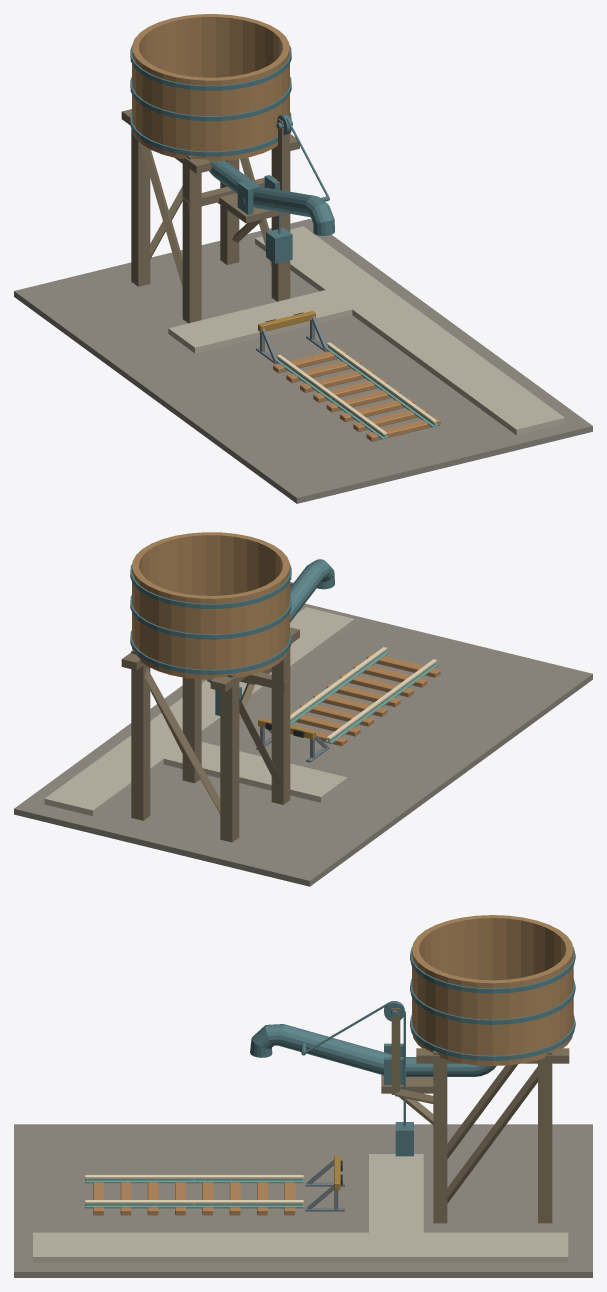
3 views of the same model, one above another, from view 1: azimuth 30°, elevation 25°; view 2: azimuth 150°, elevation 25°; view 3: azimuth 270°, elevation 25° (orthographic). The views are drawn at different scales.
Visible parts, largest first — view 1: SceneOnlyRailServiceGround__SceneOnlyWholeGroundedEndBay, tower__WholeReservoirAndOpenBottomOutlet, SceneOnlyRailServiceGround__SceneOnlySideApproachAndTransver, southtrack__railway-straight-track-01, northtrack__railway-straight-track-01, tower__WholeTowerPost_-0.96_-0.96, tower__WholeTowerPost_-0.96_0.96, tower__WholeRaisedOpenSpout, tower__WholeTowerPost_0.96_-0.96, tower__SideWholeBrace_-0.96, tower__WholeTowerPost_0.96_0.96, tower__WholeTankBindingBand_2 (+6 smaller); view 2: SceneOnlyRailServiceGround__SceneOnlyWholeGroundedEndBay, tower__WholeReservoirAndOpenBottomOutlet, SceneOnlyRailServiceGround__SceneOnlySideApproachAndTransver, southtrack__railway-straight-track-01, tower__WholeTowerPost_-0.96_0.96, tower__WholeTowerPost_0.96_0.96, northtrack__railway-straight-track-01, tower__WholeTowerPost_-0.96_-0.96, tower__WholeTowerPost_0.96_-0.96, tower__WholeRaisedOpenSpout, tower__RearWholeBrace, tower__WholeTankBindingBand_0 (+4 smaller); view 3: SceneOnlyRailServiceGround__SceneOnlyWholeGroundedEndBay, SceneOnlyRailServiceGround__SceneOnlySideApproachAndTransver, tower__WholeReservoirAndOpenBottomOutlet, tower__WholeRaisedOpenSpout, northtrack__railway-straight-track-01, southtrack__railway-straight-track-01, tower__WholeTowerPost_0.96_0.96, tower__WholeTowerPost_0.96_-0.96, tower__SideWholeBrace_0.96, tower__SideWholeBrace_-0.96, tower__WholeTankBindingBand_0, tower__WholeTankBindingBand_1 (+7 smaller).
Boxes of the visible parts, x1,y1,x2,y2 form: SceneOnlyRailServiceGround__SceneOnlyWholeGroundedEndBay: (14, 219, 592, 503); tower__WholeReservoirAndOpenBottomOutlet: (132, 14, 289, 161); SceneOnlyRailServiceGround__SceneOnlySideApproachAndTransver: (168, 226, 564, 435); southtrack__railway-straight-track-01: (326, 381, 440, 441); northtrack__railway-straight-track-01: (273, 342, 387, 402); tower__WholeTowerPost_-0.96_-0.96: (182, 155, 201, 323); tower__WholeTowerPost_-0.96_0.96: (131, 128, 150, 286); tower__WholeRaisedOpenSpout: (253, 187, 334, 235); tower__WholeTowerPost_0.96_-0.96: (271, 133, 290, 301); tower__SideWholeBrace_-0.96: (140, 143, 182, 287); tower__WholeTowerPost_0.96_0.96: (220, 159, 239, 264); tower__WholeTankBindingBand_2: (130, 45, 291, 90); SceneOnlyRailServiceGround__SceneOnlyWholeGroundedEndBay: (14, 603, 592, 886); tower__WholeReservoirAndOpenBottomOutlet: (132, 532, 289, 679); SceneOnlyRailServiceGround__SceneOnlySideApproachAndTransver: (44, 607, 354, 816); southtrack__railway-straight-track-01: (326, 647, 440, 707); tower__WholeTowerPost_-0.96_0.96: (220, 673, 239, 842); tower__WholeTowerPost_0.96_0.96: (131, 650, 150, 820); northtrack__railway-straight-track-01: (290, 686, 387, 746); tower__WholeTowerPost_-0.96_-0.96: (271, 647, 290, 804); tower__WholeTowerPost_0.96_-0.96: (182, 677, 201, 783); tower__WholeRaisedOpenSpout: (290, 559, 334, 622); tower__RearWholeBrace: (144, 668, 220, 814); tower__WholeTankBindingBand_0: (130, 630, 291, 674); SceneOnlyRailServiceGround__SceneOnlyWholeGroundedEndBay: (14, 1124, 592, 1277); SceneOnlyRailServiceGround__SceneOnlySideApproachAndTransver: (33, 1154, 568, 1262); tower__WholeReservoirAndOpenBottomOutlet: (412, 915, 573, 1065); tower__WholeRaisedOpenSpout: (250, 1024, 391, 1075); northtrack__railway-straight-track-01: (194, 1175, 303, 1215); southtrack__railway-straight-track-01: (85, 1175, 194, 1215); tower__WholeTowerPost_0.96_0.96: (538, 1050, 552, 1223); tower__WholeTowerPost_0.96_-0.96: (433, 1050, 447, 1223); tower__SideWholeBrace_0.96: (447, 1066, 537, 1203); tower__SideWholeBrace_-0.96: (447, 1064, 517, 1158); tower__WholeTankBindingBand_0: (410, 1015, 575, 1060); tower__WholeTankBindingBand_1: (410, 978, 575, 1024).
Size of the model in its own units: 6.4 by 5.15 by 10.6.
